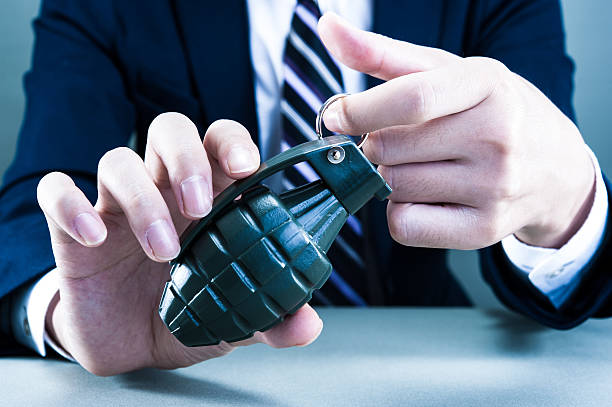e1: (158, 93, 391, 346)
